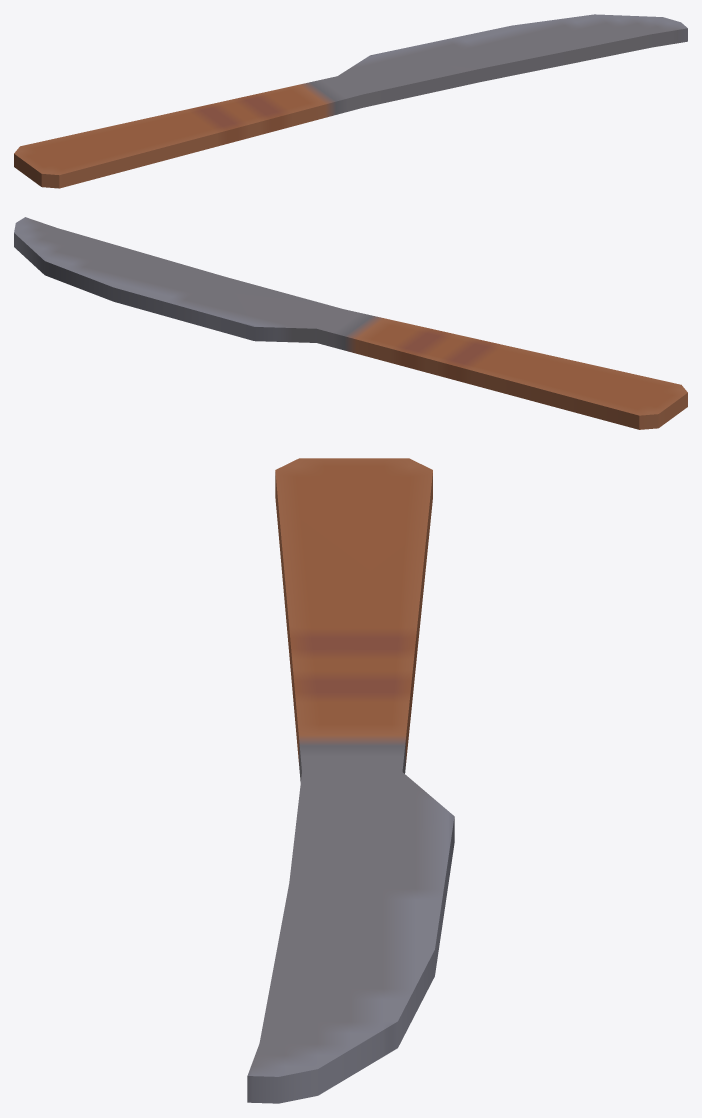
File: Pixel_Misc_S_0029.fbx
The picture shows the model from 3 angles, top to bottom: view 1: azimuth 30°, elevation 25°; view 2: azimuth 150°, elevation 25°; view 3: azimuth 270°, elevation 25°; orthographic projection. The views are drawn at different scales.
Visible parts, largest first — view 1: Pixel_Misc_S_0029; view 2: Pixel_Misc_S_0029; view 3: Pixel_Misc_S_0029.
Boxes of the visible parts, bbox=[...] form: Pixel_Misc_S_0029: bbox=[14, 14, 687, 188]; Pixel_Misc_S_0029: bbox=[14, 217, 687, 429]; Pixel_Misc_S_0029: bbox=[247, 458, 454, 1103].
Size of the model in its own units: 36.67 by 0.7564 by 5.18.
